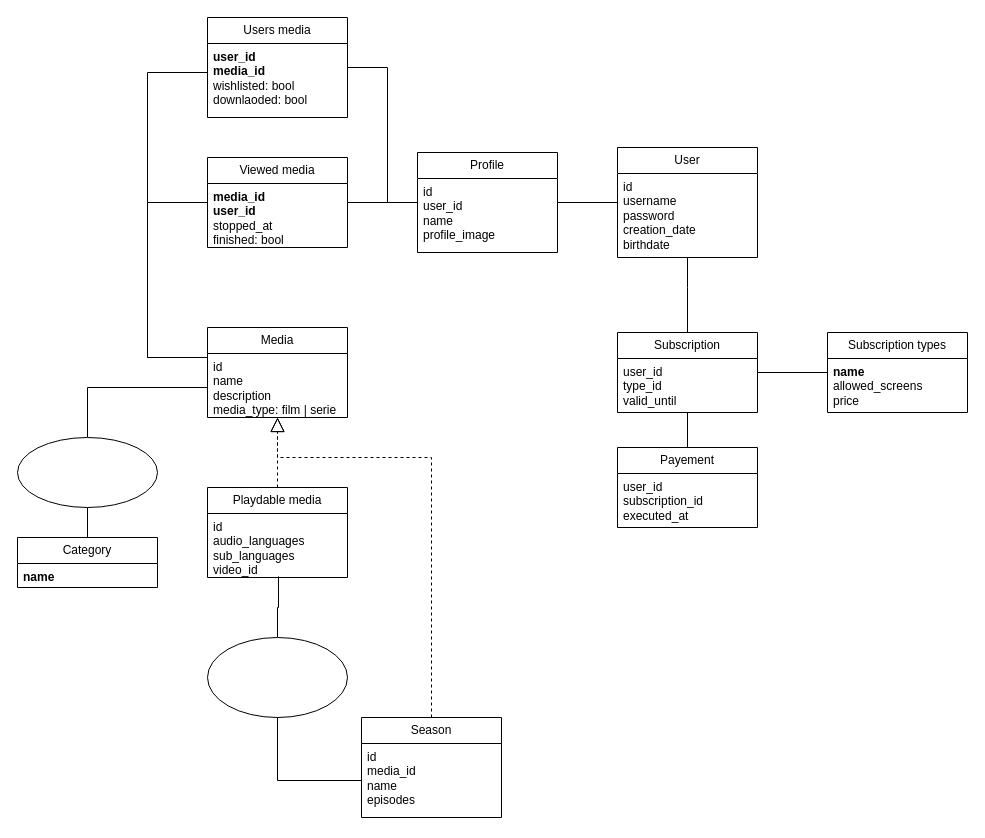
This 985x838 diagram has some shape labels left out. Here are the shapes that lost their labels. From the top down, the centre of each, then its label:
At (x=87, y=472): "media category media_id category_name".
At (x=277, y=677): "seasons_episodes playable_media_id season_id".
